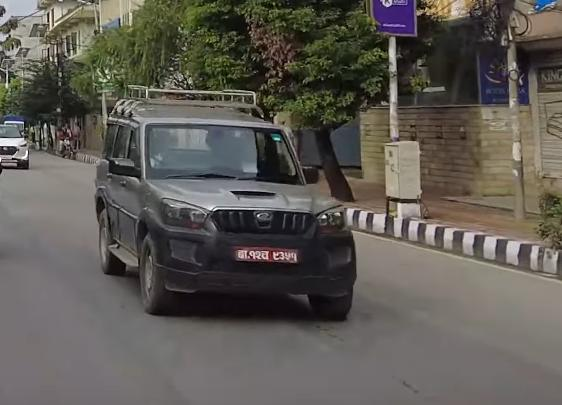SUV: (95, 82, 360, 327)
car: (0, 124, 31, 172)
